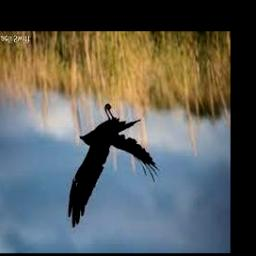Crow: (67, 102, 159, 228)
